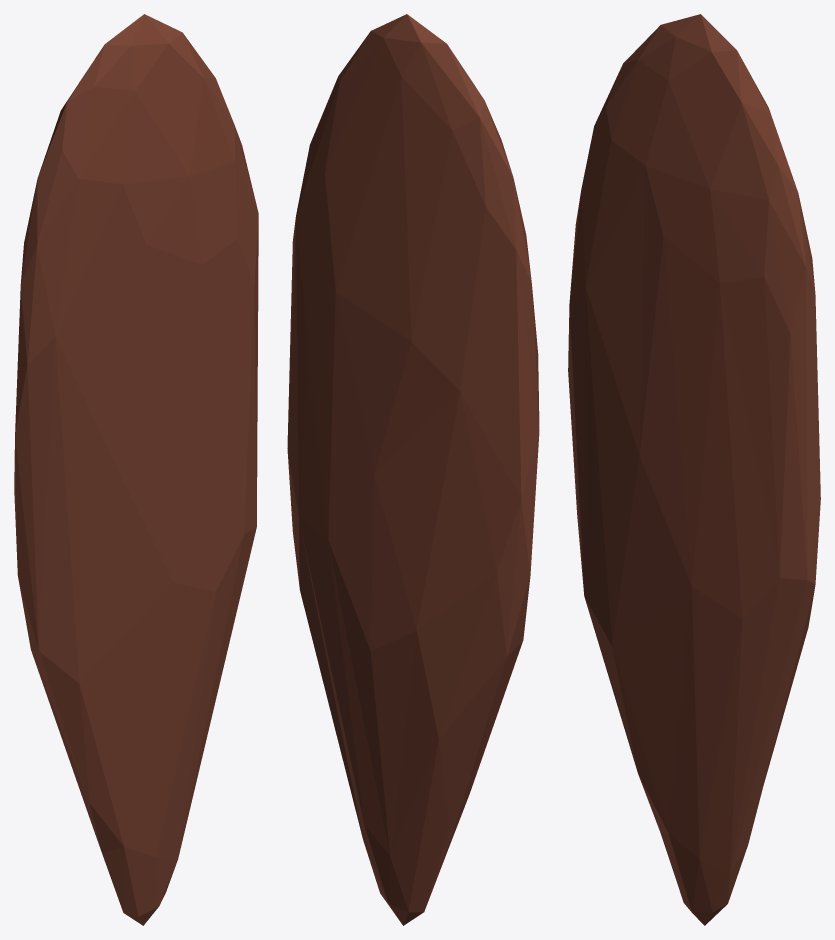
File: Nasionko.fbx
3 views of the same model, side by side, from view 1: azimuth 30°, elevation 25°; view 2: azimuth 150°, elevation 25°; view 3: azimuth 330°, elevation 25° (orthographic).
Visible parts, largest first — view 1: Nasionko; view 2: Nasionko; view 3: Nasionko.
Part boxes in pixels (<box>): Nasionko: <box>14,14,258,925</box>; Nasionko: <box>287,14,539,925</box>; Nasionko: <box>568,14,820,925</box>.
Bounding box in the file's own units: 184 × 651 × 54.69.
